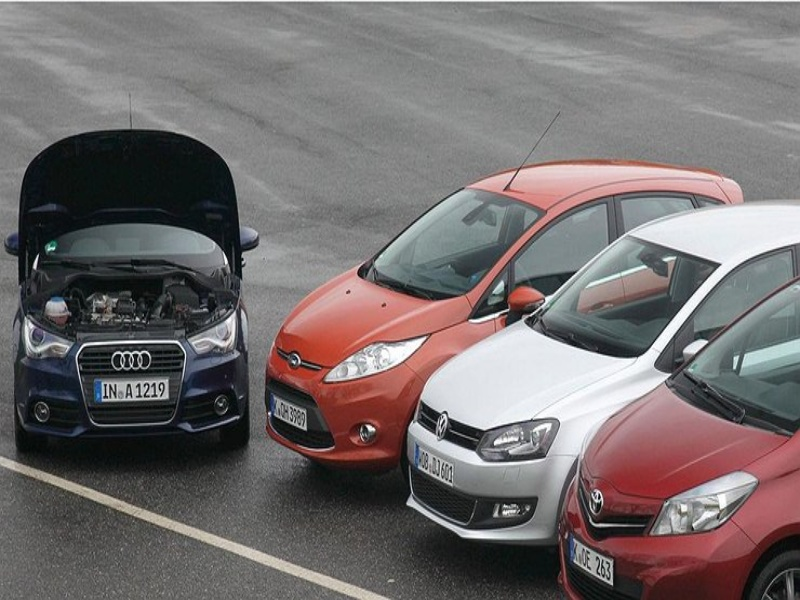car: (264, 160, 742, 463), (405, 201, 800, 540), (5, 128, 260, 455), (556, 273, 800, 600)
plate: (568, 535, 612, 582), (95, 378, 168, 403), (269, 394, 307, 433), (416, 446, 452, 484)
